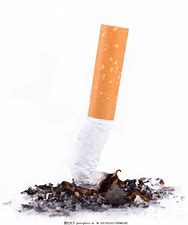cigarette: (69, 20, 130, 190)
